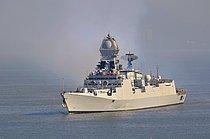MIL_Ship: (56, 33, 190, 112)
